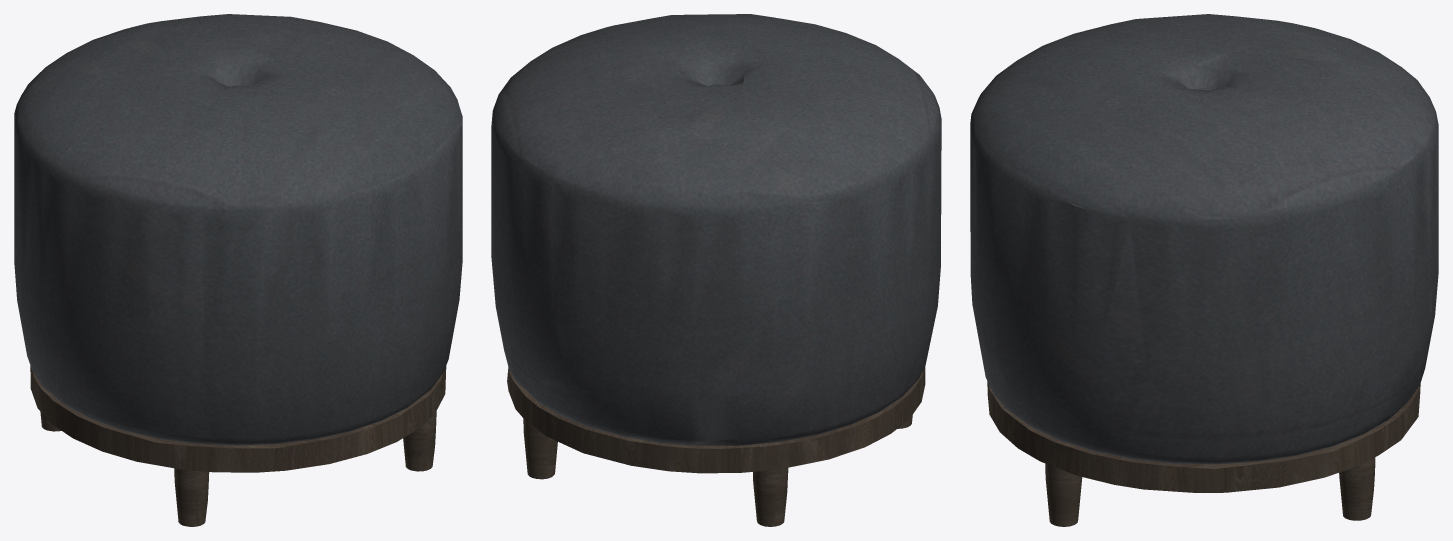
File: chair_1_fixed.fbx
The picture shows the model from 3 angles, left to right: view 1: azimuth 30°, elevation 25°; view 2: azimuth 150°, elevation 25°; view 3: azimuth 270°, elevation 25°; orthographic projection. The views are drawn at different scales.
Visible parts, largest first — view 1: GDLM1297_GDLM1190_mLayer195_29, GDLM1296_GDLM1187_mLayer194_29; view 2: GDLM1297_GDLM1190_mLayer195_29, GDLM1296_GDLM1187_mLayer194_29; view 3: GDLM1297_GDLM1190_mLayer195_29, GDLM1296_GDLM1187_mLayer194_29.
Boxes of the visible parts, x1,y1,x2,y2 form: GDLM1297_GDLM1190_mLayer195_29: [14, 14, 462, 445]; GDLM1296_GDLM1187_mLayer194_29: [30, 365, 446, 526]; GDLM1297_GDLM1190_mLayer195_29: [491, 14, 941, 445]; GDLM1296_GDLM1187_mLayer194_29: [507, 366, 925, 526]; GDLM1297_GDLM1190_mLayer195_29: [970, 14, 1438, 464]; GDLM1296_GDLM1187_mLayer194_29: [987, 381, 1420, 526].
Bounding box in the file's own units: 0.4 × 0.3684 × 0.4.
Materials: 2 (2 with a texture image).
